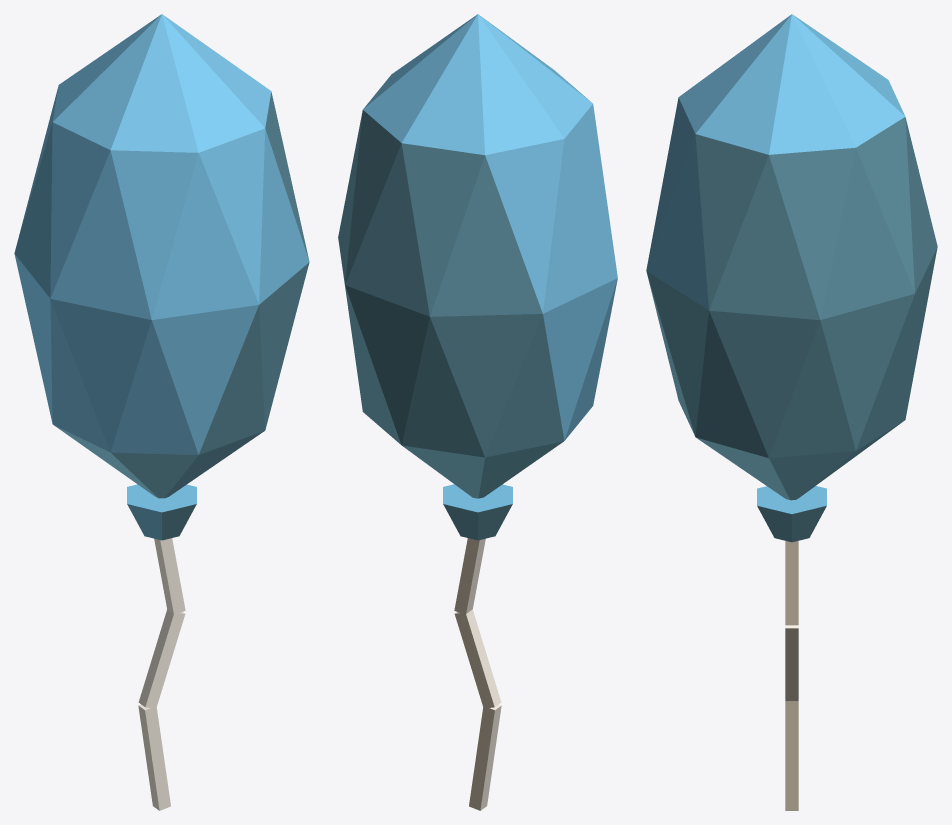
The model's file is balloon_long.glb.
3 renders of one model, left to right at view 1: azimuth 30°, elevation 25°; view 2: azimuth 150°, elevation 25°; view 3: azimuth 270°, elevation 25°, orthographic.
Parts seen in each view (by area): view 1: skin, string, knot; view 2: skin, string, knot; view 3: skin, string, knot.
Boxes of the visible parts, left/top/right/bottom form: skin: left=14, top=14, right=309, bottom=498; string: left=138, top=538, right=185, bottom=810; knot: left=127, top=484, right=196, bottom=540; skin: left=338, top=14, right=617, bottom=498; string: left=454, top=538, right=501, bottom=810; knot: left=443, top=484, right=512, bottom=540; skin: left=646, top=14, right=937, bottom=500; string: left=785, top=541, right=798, bottom=810; knot: left=757, top=486, right=826, bottom=542.
Bounding box in the file's own units: 0.0432 × 0.1301 × 0.0432.
